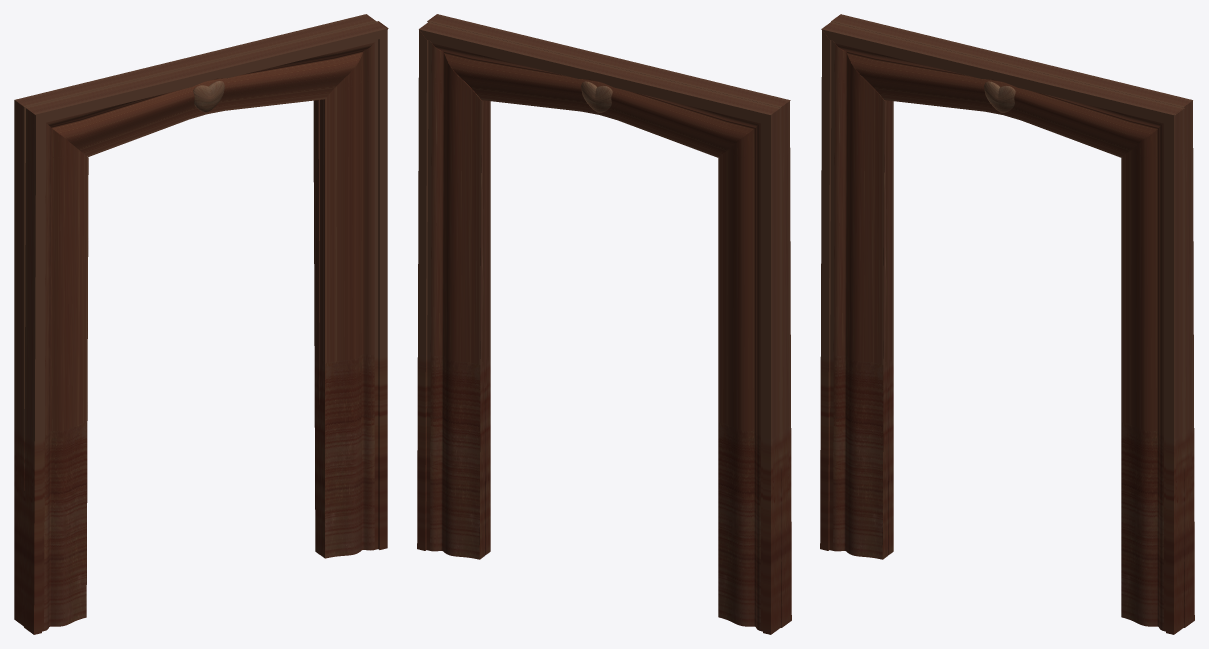
Rendered from DTYDFittings.fbx_Doorway.fbx.
The picture shows the model from 3 angles, left to right: view 1: azimuth 30°, elevation 25°; view 2: azimuth 150°, elevation 25°; view 3: azimuth 330°, elevation 25°; orthographic projection.
Visible parts, largest first — view 1: Cube.089, Cube.045, Cube.044, Cube.033, Sphere.002; view 2: Cube.044, Cube.033, Cube.089, Cube.045, Sphere.001; view 3: Cube.089, Cube.045, Cube.044, Cube.033, Sphere.002.
Part boxes in pixels (left/top/right/bottom): Cube.089: left=24, top=21, right=387, bottom=634; Cube.045: left=25, top=21, right=388, bottom=156; Cube.044: left=14, top=100, right=319, bottom=626; Cube.033: left=15, top=14, right=376, bottom=107; Sphere.002: left=193, top=80, right=224, bottom=112; Cube.044: left=417, top=30, right=780, bottom=634; Cube.033: left=419, top=22, right=780, bottom=157; Cube.089: left=428, top=14, right=791, bottom=627; Cube.045: left=427, top=14, right=790, bottom=107; Sphere.001: left=581, top=81, right=612, bottom=112; Cube.089: left=820, top=30, right=1183, bottom=634; Cube.045: left=821, top=22, right=1184, bottom=157; Cube.044: left=831, top=14, right=1194, bottom=627; Cube.033: left=831, top=14, right=1192, bottom=107; Sphere.002: left=984, top=81, right=1015, bottom=112.
Bounding box in the file's own units: 743 × 1042 × 74.73.
Materials: 2 (2 with a texture image).
